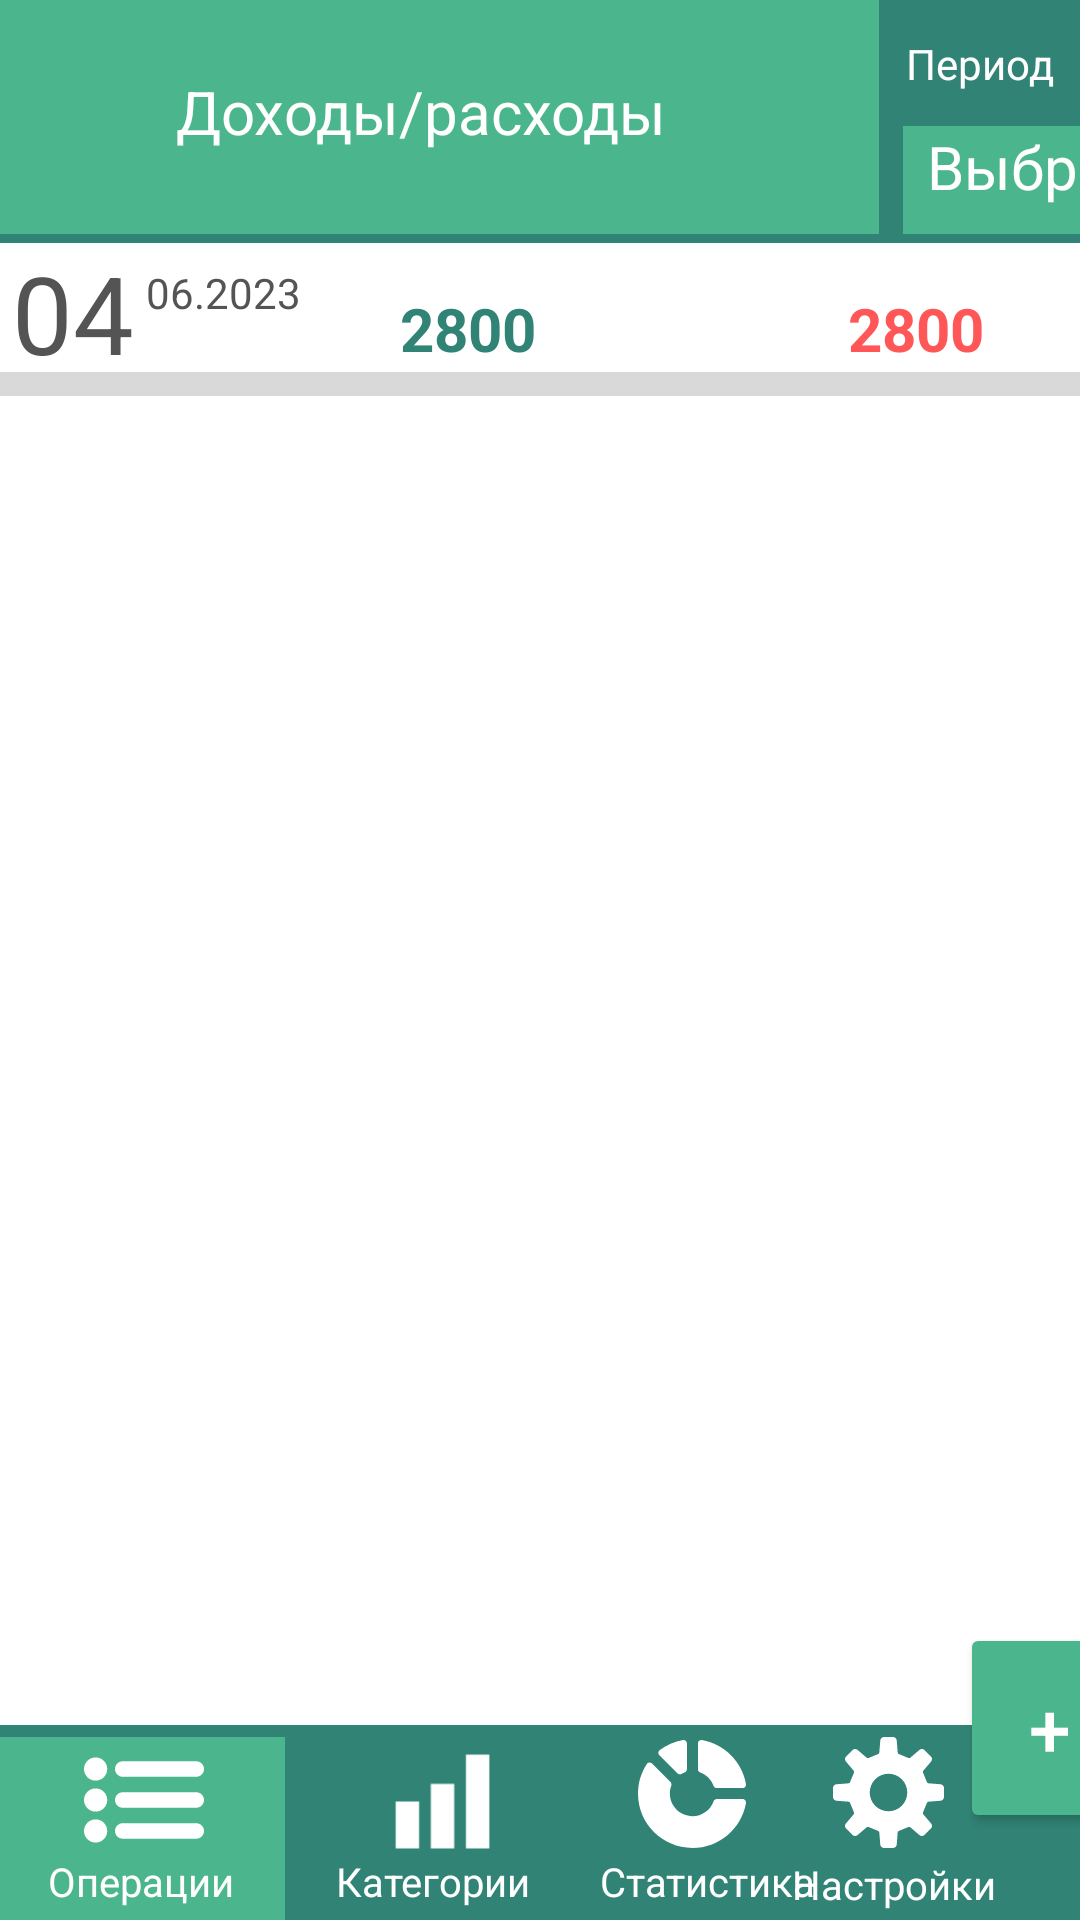

Point at icon controls on the screen. Image size 1080 x 1920, points as point (x, y).
chart bar: point (442, 1801)
diagram circ: point (692, 1794)
gear: point (888, 1792)
list: point (144, 1800)
